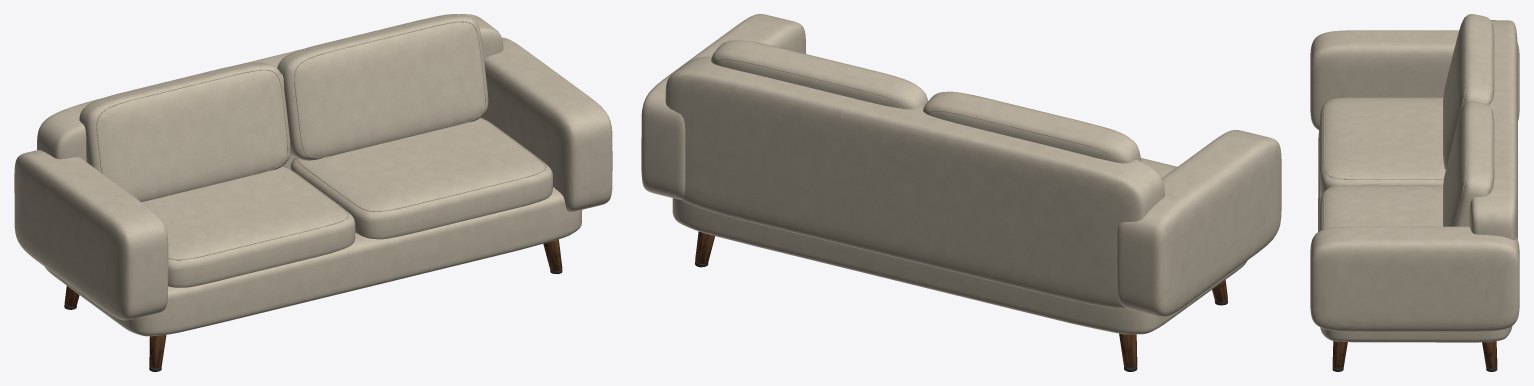
File: sofa.glb
3 views of the same model, side by side, from view 1: azimuth 30°, elevation 25°; view 2: azimuth 150°, elevation 25°; view 3: azimuth 270°, elevation 25° (orthographic). The views are drawn at different scales.
Visible parts, largest first — view 1: Left | feather back cushion, Arm | vertical tailoring seam, Walnut | splayed tapered foot; view 2: Left | feather back cushion, Walnut | splayed tapered foot, Arm | vertical tailoring seam; view 3: Left | feather back cushion, Arm | vertical tailoring seam, Walnut | splayed tapered foot.
Part boxes in pixels (<box>): Left | feather back cushion: <box>14,14,612,336</box>; Arm | vertical tailoring seam: <box>27,21,546,260</box>; Walnut | splayed tapered foot: <box>64,239,562,368</box>; Left | feather back cushion: <box>641,14,1281,334</box>; Walnut | splayed tapered foot: <box>695,231,1227,367</box>; Arm | vertical tailoring seam: <box>714,41,1182,297</box>; Left | feather back cushion: <box>1310,14,1519,342</box>; Arm | vertical tailoring seam: <box>1323,17,1493,320</box>; Walnut | splayed tapered foot: <box>1332,341,1497,368</box>.
Bounding box in the file's own units: 2.27 × 0.9169 × 0.9245.
4 materials, 2 textured.
